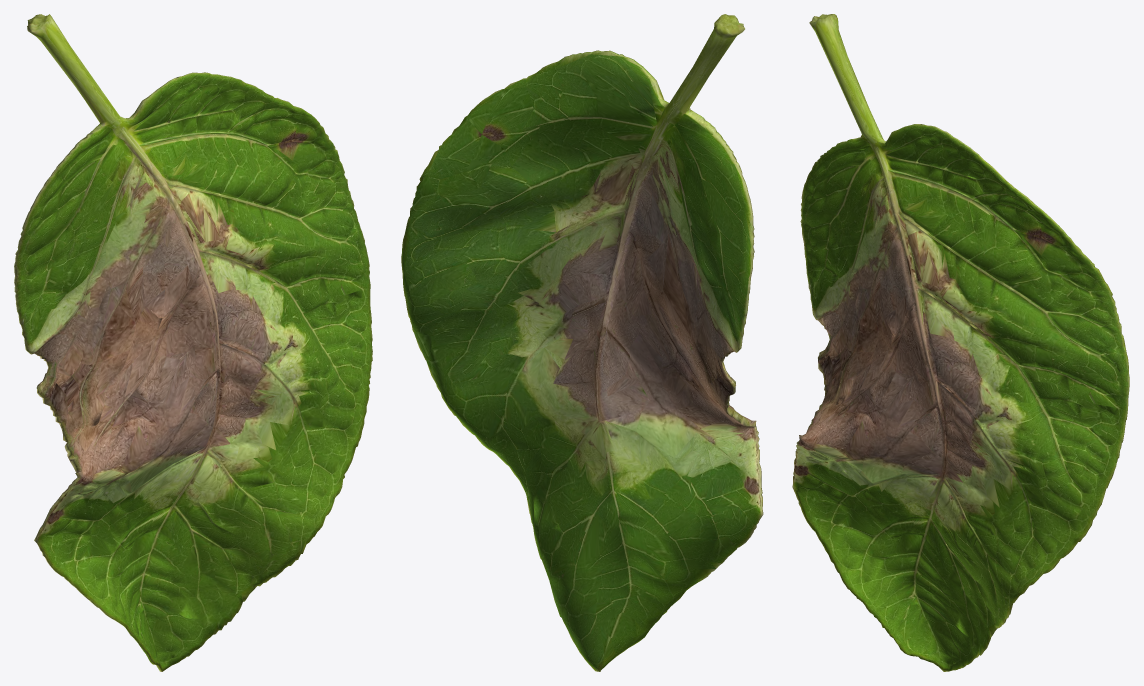
Rendered from potato_late_blight.glb.
3 renders of one model, left to right at view 1: azimuth 30°, elevation 25°; view 2: azimuth 150°, elevation 25°; view 3: azimuth 330°, elevation 25°, orthographic. The views are drawn at different scales.
Parts seen in each view (by area): view 1: potato_late_blight; view 2: potato_late_blight; view 3: potato_late_blight.
Part boxes in pixels (x1=…): potato_late_blight: x1=14, y1=14, x2=372, y2=671; potato_late_blight: x1=401, y1=14, x2=763, y2=671; potato_late_blight: x1=792, y1=14, x2=1129, y2=671.
Size of the model in its own units: 0.5387 by 1 by 0.1098.
1 material, 1 textured.
